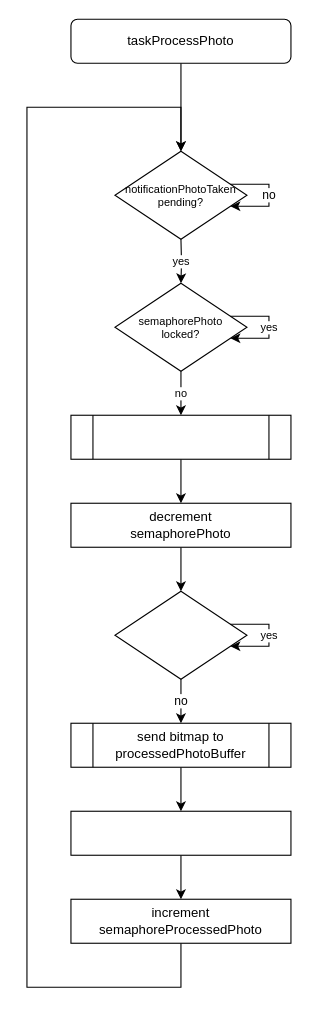
Image size: 310x1015. Some labels were removed from this diagram. Here are the shapes that lost their labels. From the top down, the box of each, then its label:
(70, 414, 291, 459): convert raw photo from photoBuffer to bitmap
(114, 590, 247, 679): semaphoreProcessedPhoto locked?
(70, 810, 291, 855): send notificationPhotoProcessed
